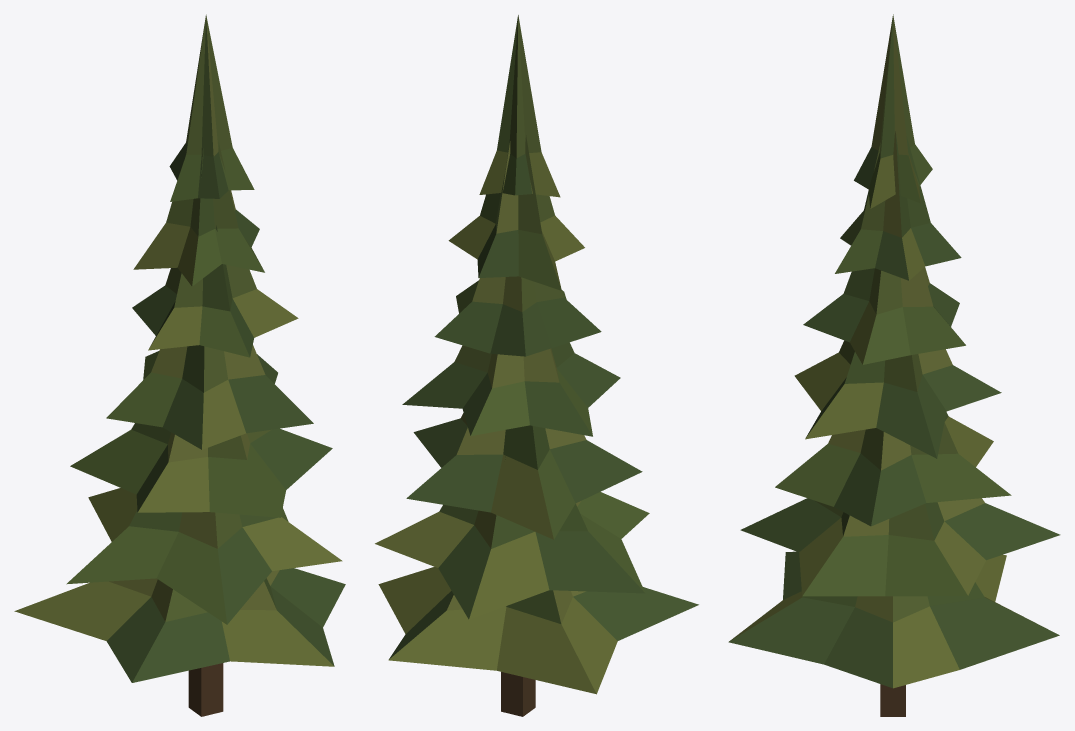
The model's file is greenhaven-pine-b.glb.
3 renders of one model, left to right at view 1: azimuth 30°, elevation 25°; view 2: azimuth 150°, elevation 25°; view 3: azimuth 270°, elevation 25°, orthographic.
Visible parts, largest first — view 1: Greenhaven_LayeredPine_b; view 2: Greenhaven_LayeredPine_b; view 3: Greenhaven_LayeredPine_b.
Boxes of the visible parts, <box> form: Greenhaven_LayeredPine_b: <box>14,14,345,716</box>; Greenhaven_LayeredPine_b: <box>375,15,698,716</box>; Greenhaven_LayeredPine_b: <box>728,14,1060,716</box>.
Bounding box in the file's own units: 3.37 × 8.15 × 3.52.
